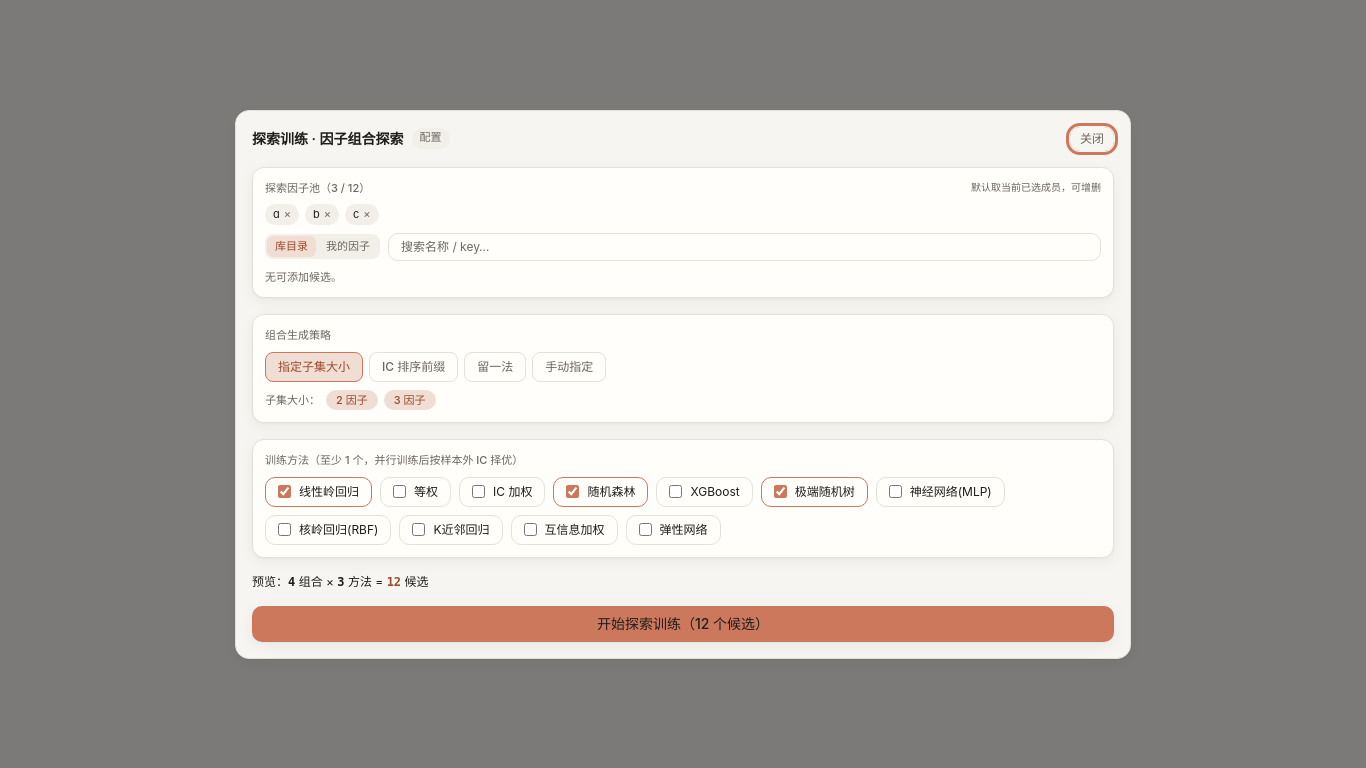
Scenario: WeightExploreModal › refines into a second round: manual combos on the last pool + breadcrumb, no config flash
Check: the button "开始探索训练（12 个候选）" is shown, box [252,606,1114,642]
Click the checkbox labelled "随机森林" at coordinates (573, 492), box [566,485,579,498]
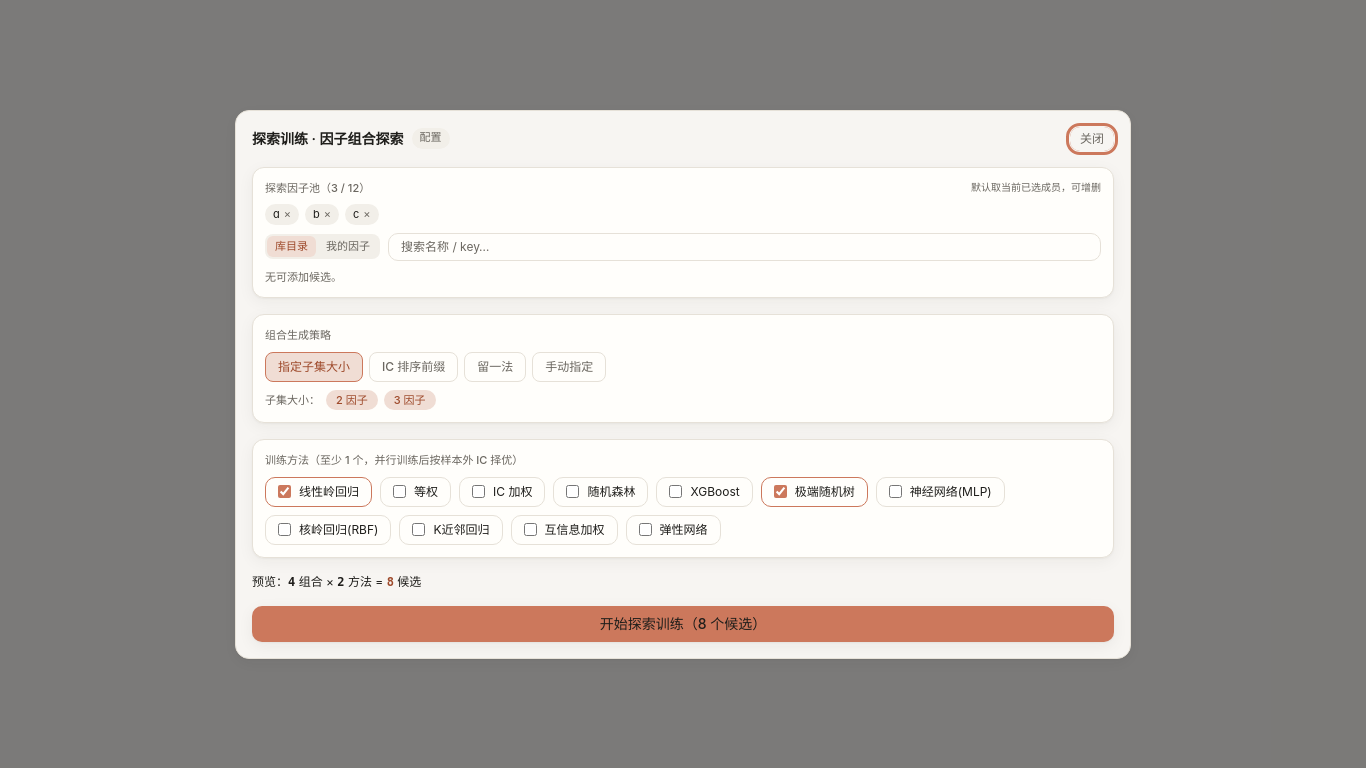
Click the checkbox labelled "极端随机树" at coordinates (780, 492), box [774,485,787,498]
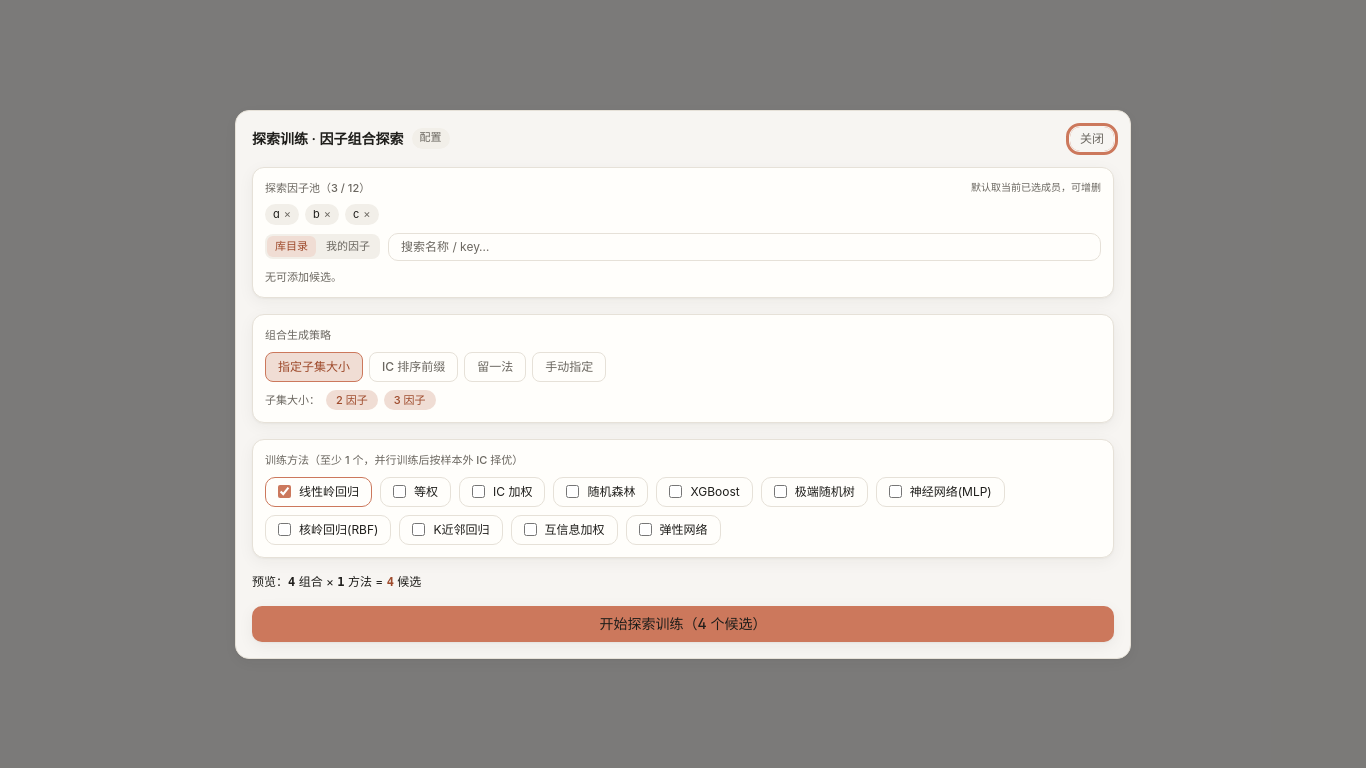
Click the button "开始探索训练（4 个候选）" at coordinates (683, 624), box [252,606,1114,642]
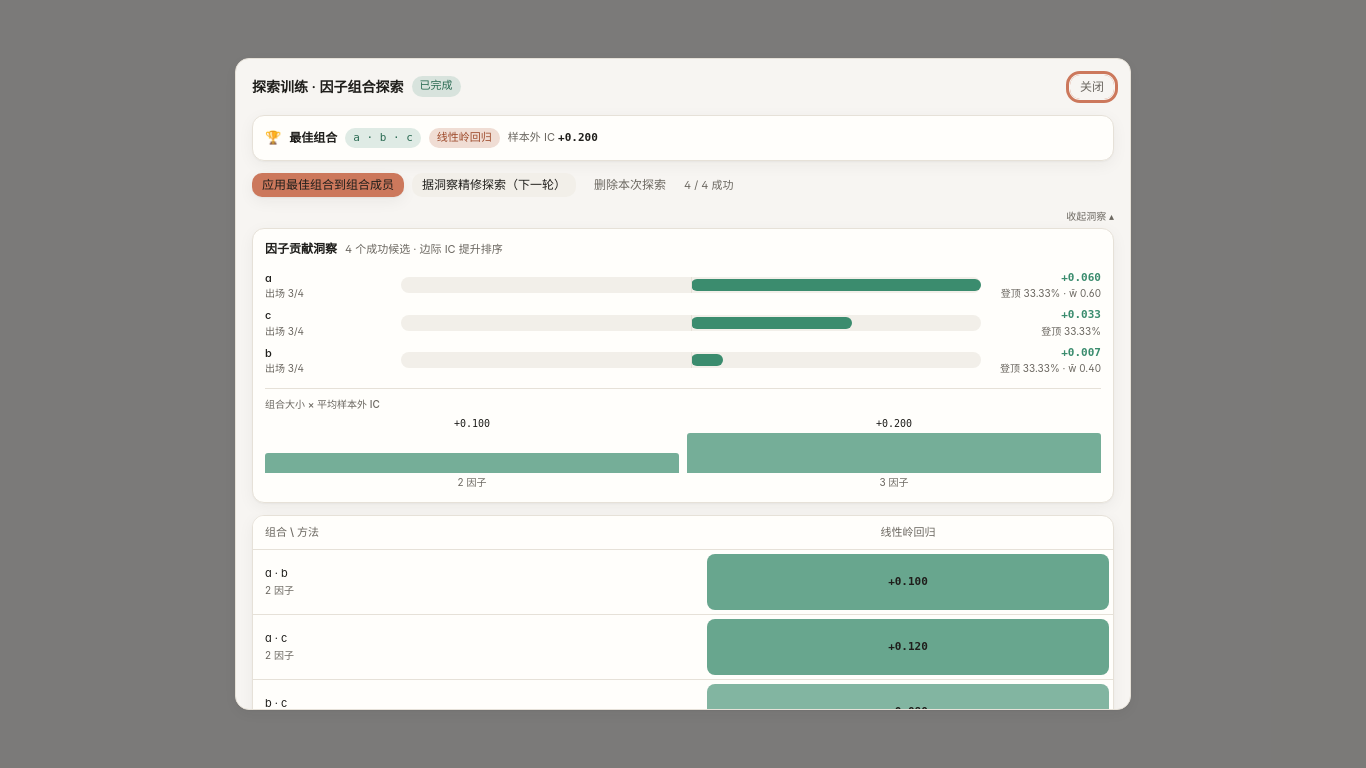
Check: the button "据洞察精修探索（下一轮）" is enabled
Click the button "据洞察精修探索（下一轮）" at coordinates (494, 185), box [412,173,576,197]
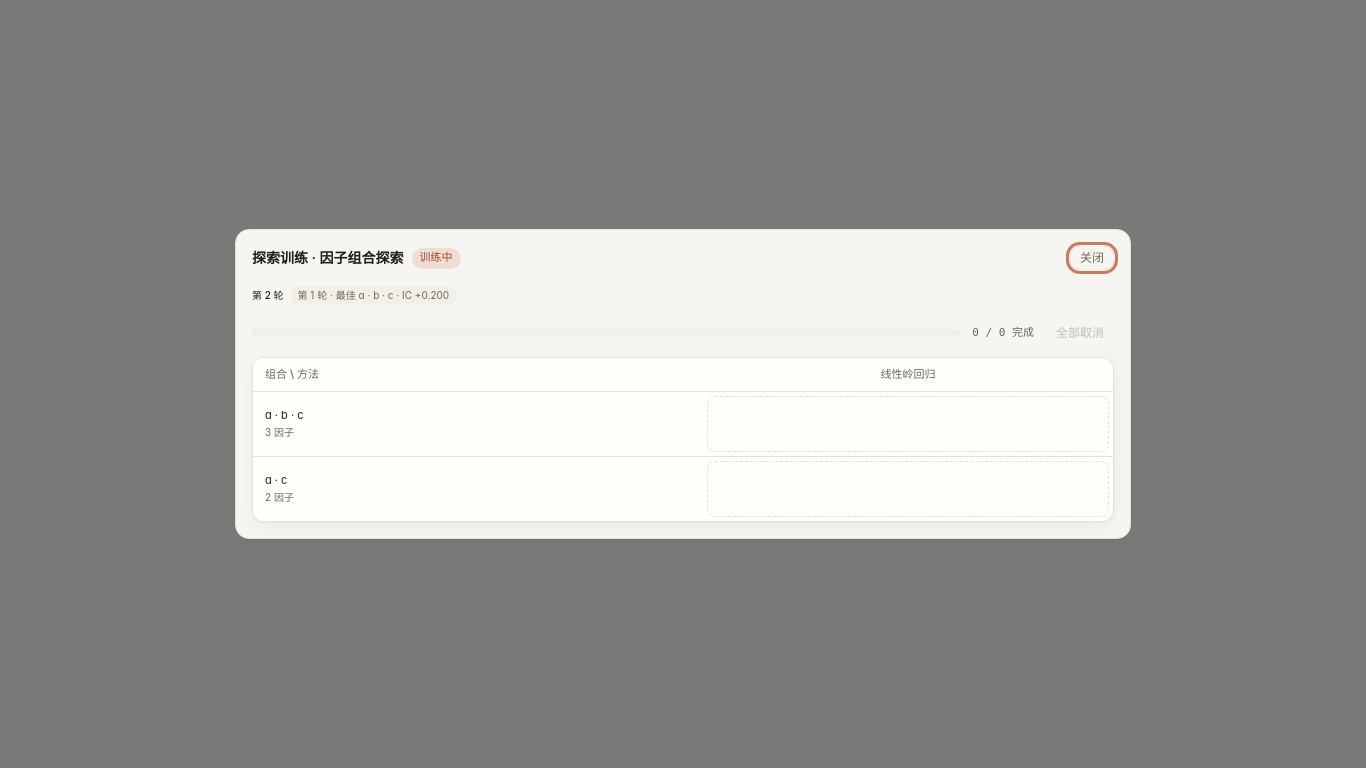
Check: the text "探索因子池" is not shown
Check: the text "第 2 轮" is shown, box [252,288,284,303]
